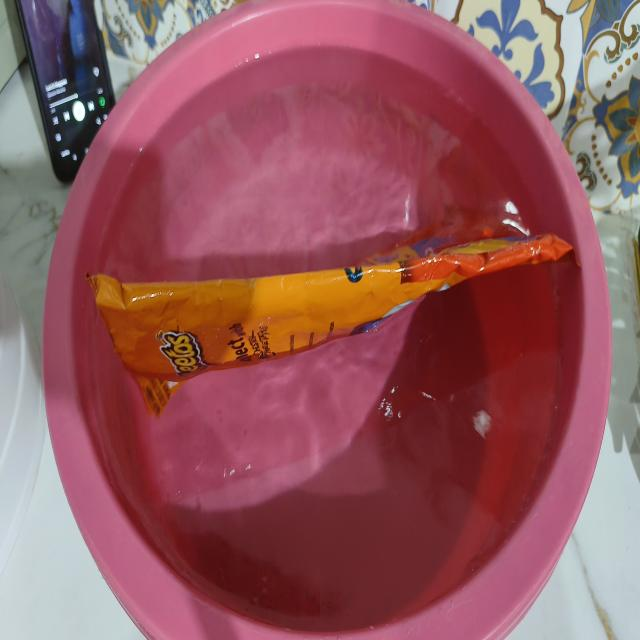Plastic Wrapper: (86, 234, 571, 383)
